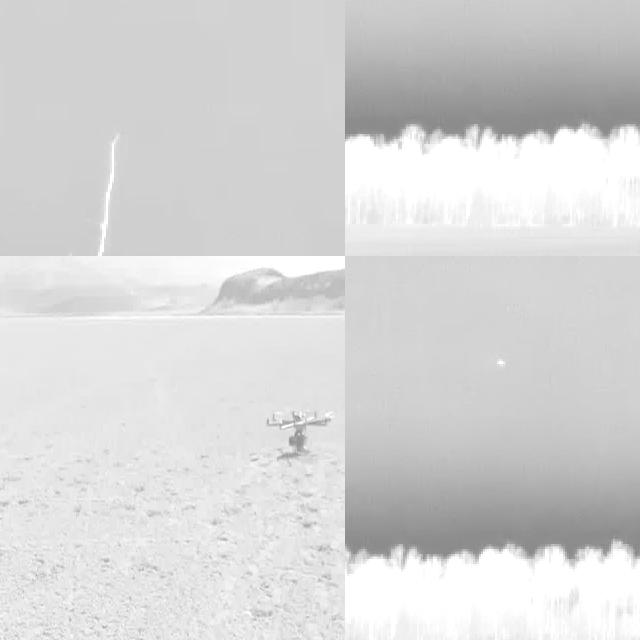0: (93, 217, 113, 237)
1: (491, 352, 519, 382)
drone: (266, 400, 334, 450)
